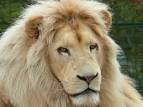lion: (2, 2, 143, 105)
